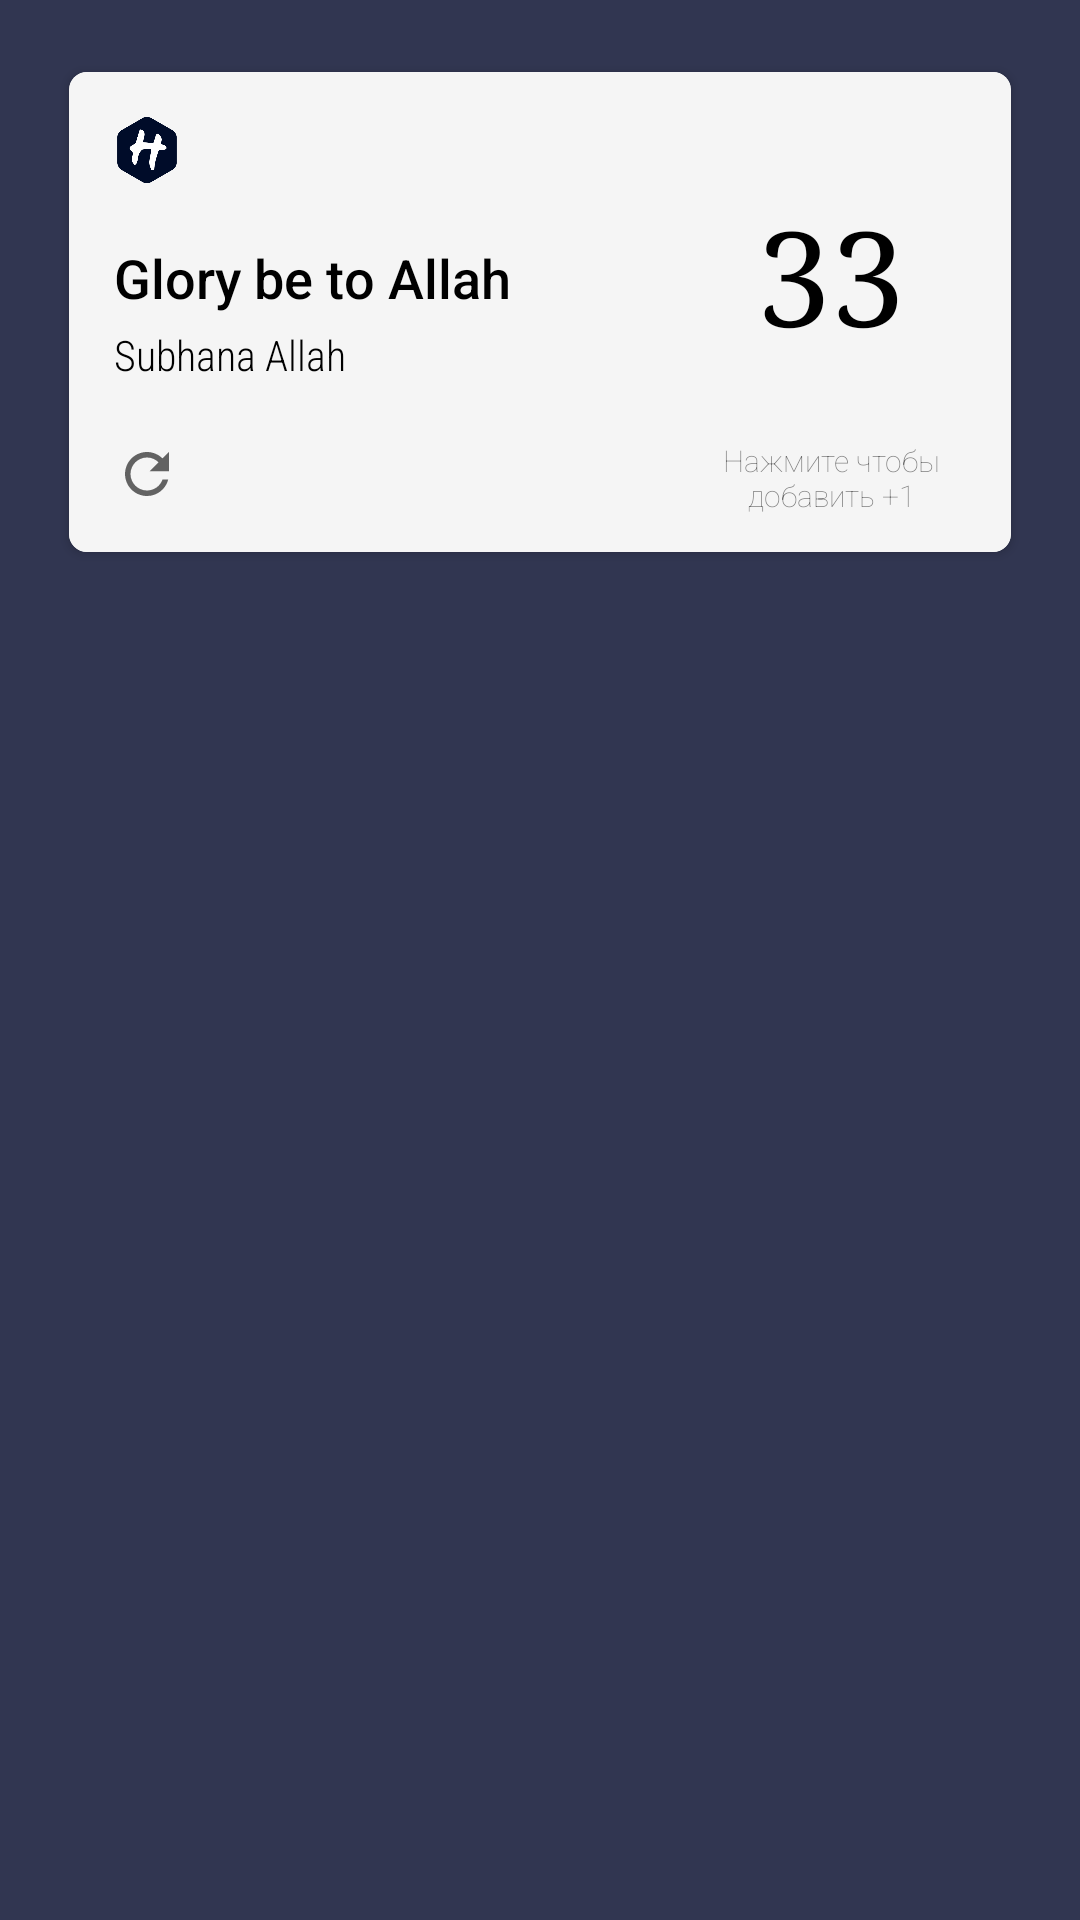

Named icons in this screenshot (1080×1920) and their centers, (x=x, y=y):
refresh: (x=147, y=474)
